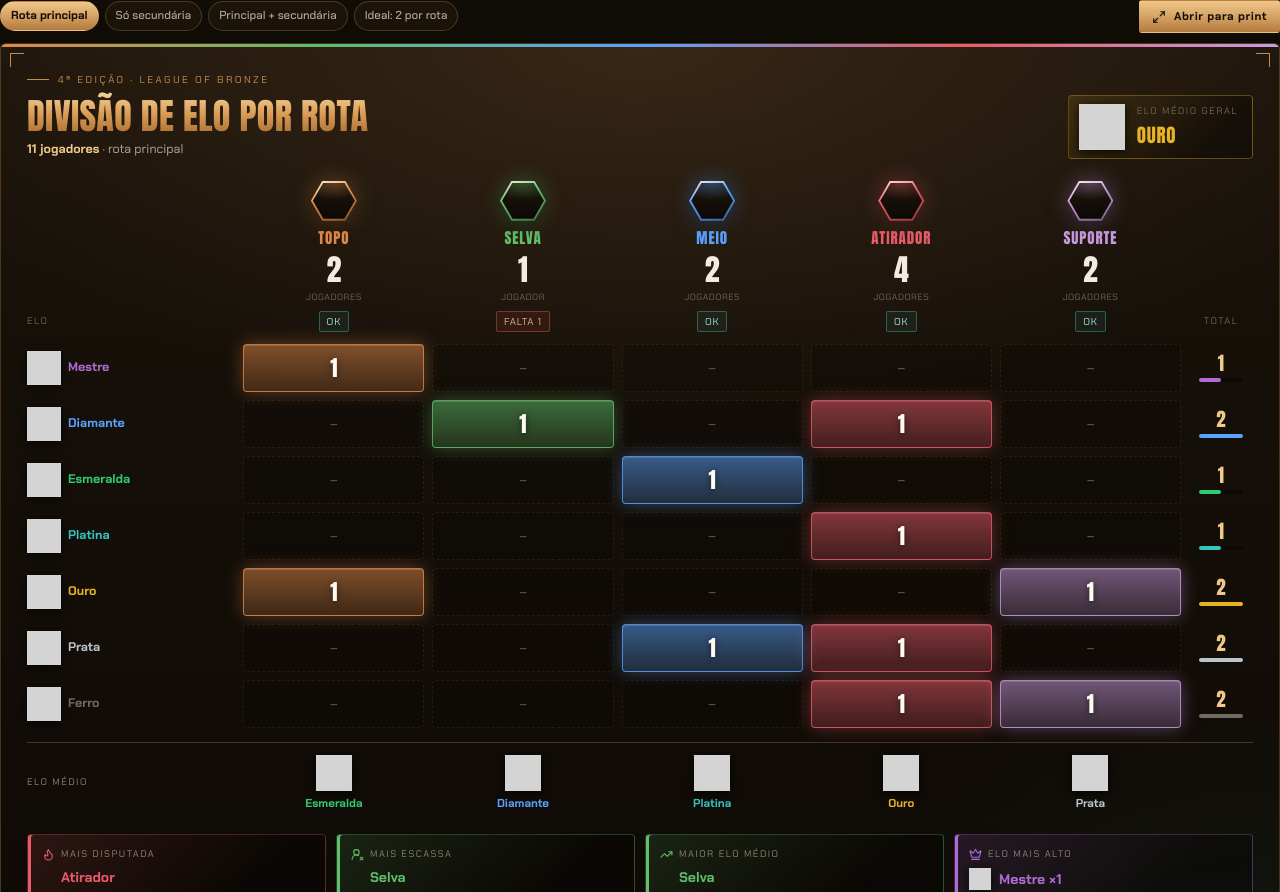
Test case: <EloPorRota> no modo ideal › com mais gente que vagas, diz quantos ficam sem vaga — sem dar o nome de ninguém
Click the button "Ideal: 2 por rota": (406, 16) [354,1,458,31]
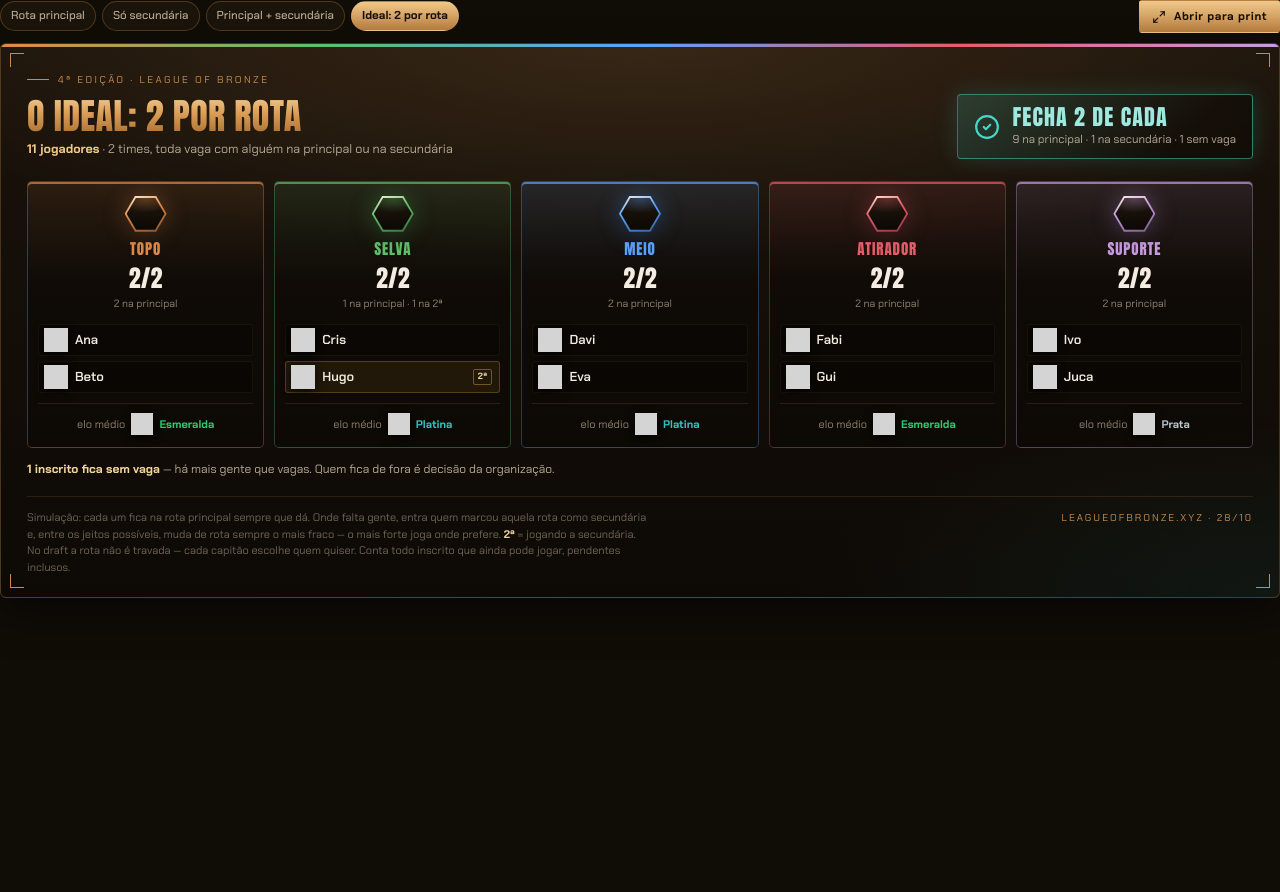
Expected: the text "1 inscrito fica sem vaga" is shown, [27,461,160,477]
Expected: the text "toda vaga com alguém na principal ou na secundária" is shown, [99,141,453,157]
